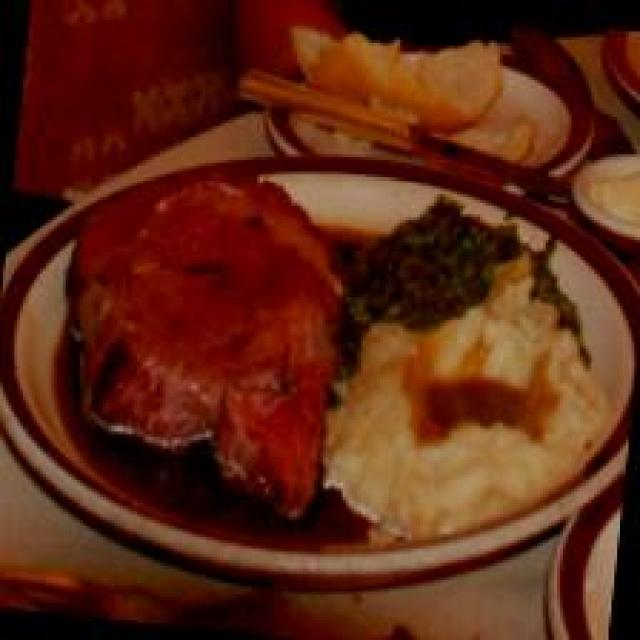rib: (36, 160, 367, 531)
